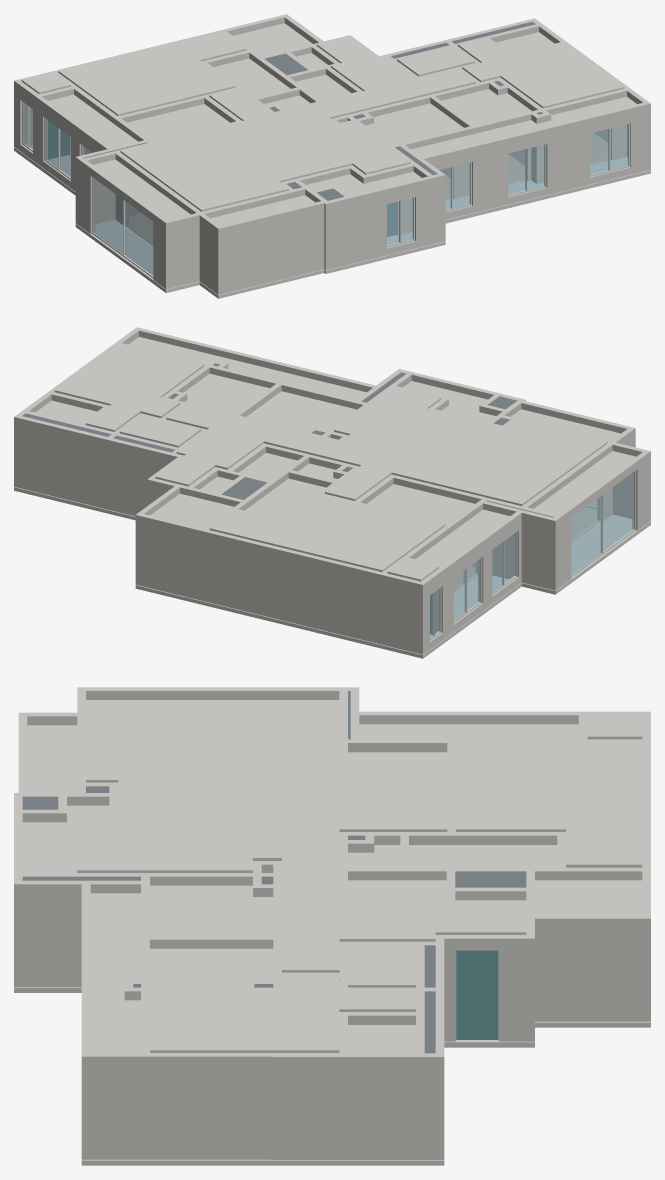
File: acro211a-basic-archisketch.glb
3 views of the same model, one above another, from view 1: azimuth 30°, elevation 25°; view 2: azimuth 150°, elevation 25°; view 3: azimuth 270°, elevation 25° (orthographic). The views are drawn at different scales.
Parts seen in each view (by area): view 1: Wall/layer-06/00, Ceiling/living-kitchen-hall, Wall/layer-01/01, Ceiling/primary, Ceiling/bedroom-03, Wall/layer-00/01, Base/00, Wall/layer-04/01, Ceiling/bedroom-01, Ceiling/balcony-01, Ceiling/bedroom-04, Wall/layer-01/04 (+41 smaller); view 2: Wall/layer-06/00, Ceiling/living-kitchen-hall, Wall/layer-01/06, Ceiling/primary, Ceiling/bedroom-03, Wall/layer-01/05, Wall/layer-00/00, Base/00, Wall/layer-01/00, Ceiling/bedroom-01, Ceiling/balcony-01, Wall/layer-04/00 (+31 smaller); view 3: Ceiling/living-kitchen-hall, Wall/layer-06/00, Wall/layer-01/05, Ceiling/primary, Ceiling/bedroom-03, Wall/layer-01/06, Ceiling/balcony-01, Ceiling/bedroom-01, Ceiling/bedroom-04, Wall/layer-00/01, Ceiling/bedroom-02, Wall/layer-01/02 (+20 smaller).
Boxes of the visible parts, x1=… form: Wall/layer-06/00: x1=14, y1=14, x2=650, y2=236; Ceiling/living-kitchen-hall: x1=120, y1=36, x2=475, y2=211; Wall/layer-01/01: x1=153, y1=205, x2=386, y2=287; Ceiling/primary: x1=58, y1=31, x2=246, y2=116; Ceiling/bedroom-03: x1=457, y1=37, x2=624, y2=108; Wall/layer-00/01: x1=153, y1=131, x2=650, y2=294; Base/00: x1=14, y1=147, x2=650, y2=298; Wall/layer-04/01: x1=153, y1=111, x2=650, y2=240; Ceiling/bedroom-01: x1=365, y1=103, x2=463, y2=145; Ceiling/balcony-01: x1=411, y1=97, x2=636, y2=156; Ceiling/bedroom-04: x1=127, y1=104, x2=229, y2=141; Wall/layer-01/04: x1=546, y1=134, x2=589, y2=187; Wall/layer-06/00: x1=14, y1=327, x2=650, y2=592; Ceiling/living-kitchen-hall: x1=155, y1=386, x2=607, y2=505; Wall/layer-01/06: x1=135, y1=496, x2=429, y2=647; Ceiling/primary: x1=209, y1=494, x2=445, y2=571; Ceiling/bedroom-03: x1=54, y1=343, x2=204, y2=431; Wall/layer-01/05: x1=14, y1=434, x2=160, y2=510; Wall/layer-00/00: x1=135, y1=563, x2=571, y2=654; Base/00: x1=14, y1=487, x2=650, y2=658; Wall/layer-01/00: x1=475, y1=526, x2=571, y2=583; Ceiling/bedroom-01: x1=246, y1=391, x2=356, y2=431; Ceiling/balcony-01: x1=128, y1=337, x2=366, y2=399; Wall/layer-04/00: x1=135, y1=487, x2=571, y2=597; Ceiling/living-kitchen-hall: x1=77, y1=713, x2=526, y2=972; Wall/layer-06/00: x1=14, y1=687, x2=650, y2=1068; Wall/layer-01/05: x1=81, y1=963, x2=455, y2=1148; Ceiling/primary: x1=456, y1=740, x2=642, y2=867; Ceiling/bedroom-03: x1=150, y1=973, x2=415, y2=1052; Wall/layer-01/06: x1=499, y1=943, x2=650, y2=1030; Ceiling/balcony-01: x1=90, y1=893, x2=140, y2=1052; Ceiling/bedroom-01: x1=150, y1=885, x2=273, y2=935; Ceiling/bedroom-04: x1=348, y1=752, x2=447, y2=806; Wall/layer-00/01: x1=14, y1=976, x2=455, y2=1159; Ceiling/bedroom-02: x1=150, y1=948, x2=273, y2=987; Wall/layer-01/02: x1=14, y1=909, x2=81, y2=976.
Size of the model in its own units: 20.01 by 2.82 by 14.57.
